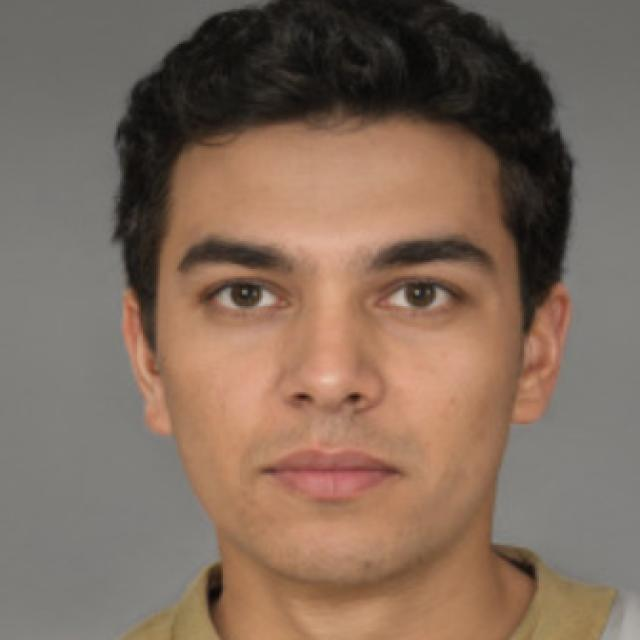natural: (118, 19, 564, 561)
